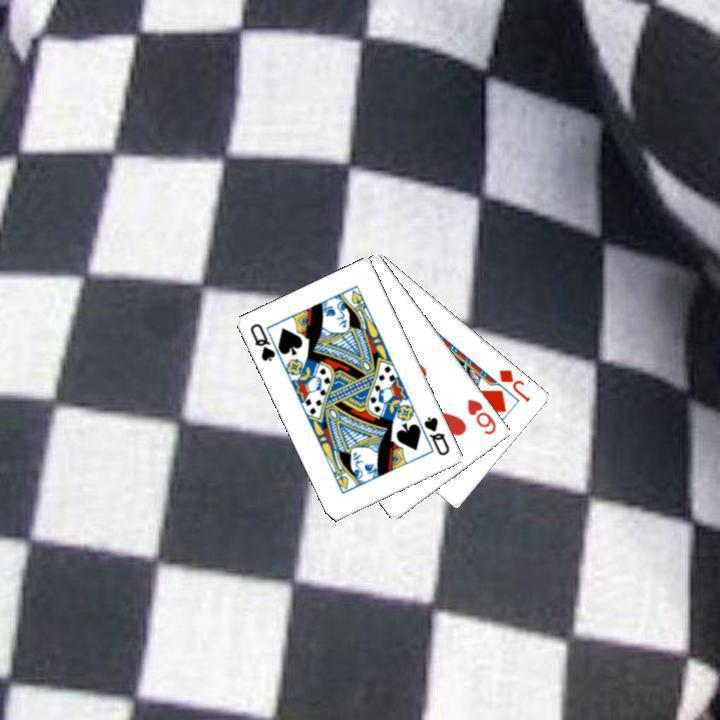6: (463, 395, 499, 437)
J: (495, 365, 533, 404)
Q: (420, 412, 452, 458), (246, 319, 278, 364)
